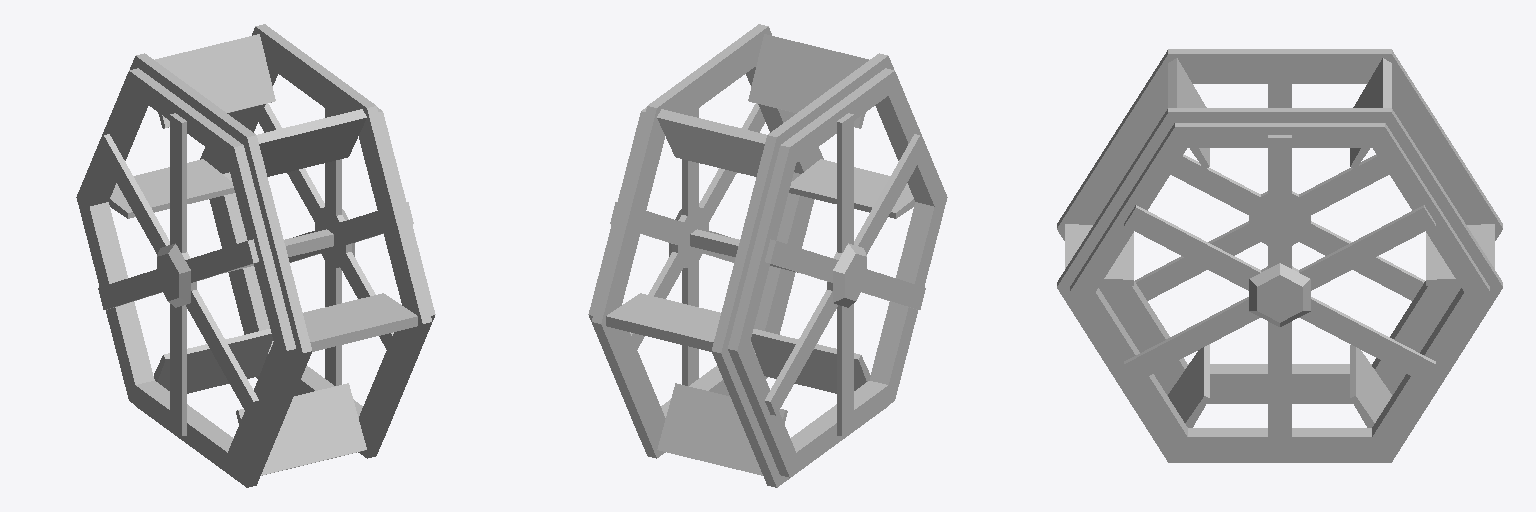
Rendered from watermillWide.obj.
3 views of the same model, side by side, from view 1: azimuth 30°, elevation 25°; view 2: azimuth 150°, elevation 25°; view 3: azimuth 270°, elevation 25° (orthographic).
Visible parts, largest first — view 1: watermillWide, paddle; view 2: watermillWide, paddle; view 3: watermillWide, paddle.
Boxes of the visible parts, x1=… form: watermillWide: x1=76, y1=24, x2=435, y2=487; paddle: x1=109, y1=34, x2=417, y2=475; watermillWide: x1=588, y1=24, x2=947, y2=487; paddle: x1=606, y1=34, x2=914, y2=475; watermillWide: x1=1057, y1=49, x2=1502, y2=462; paddle: x1=1065, y1=58, x2=1494, y2=427.
Bounding box in the file's own units: 0.91 × 1.73 × 2.